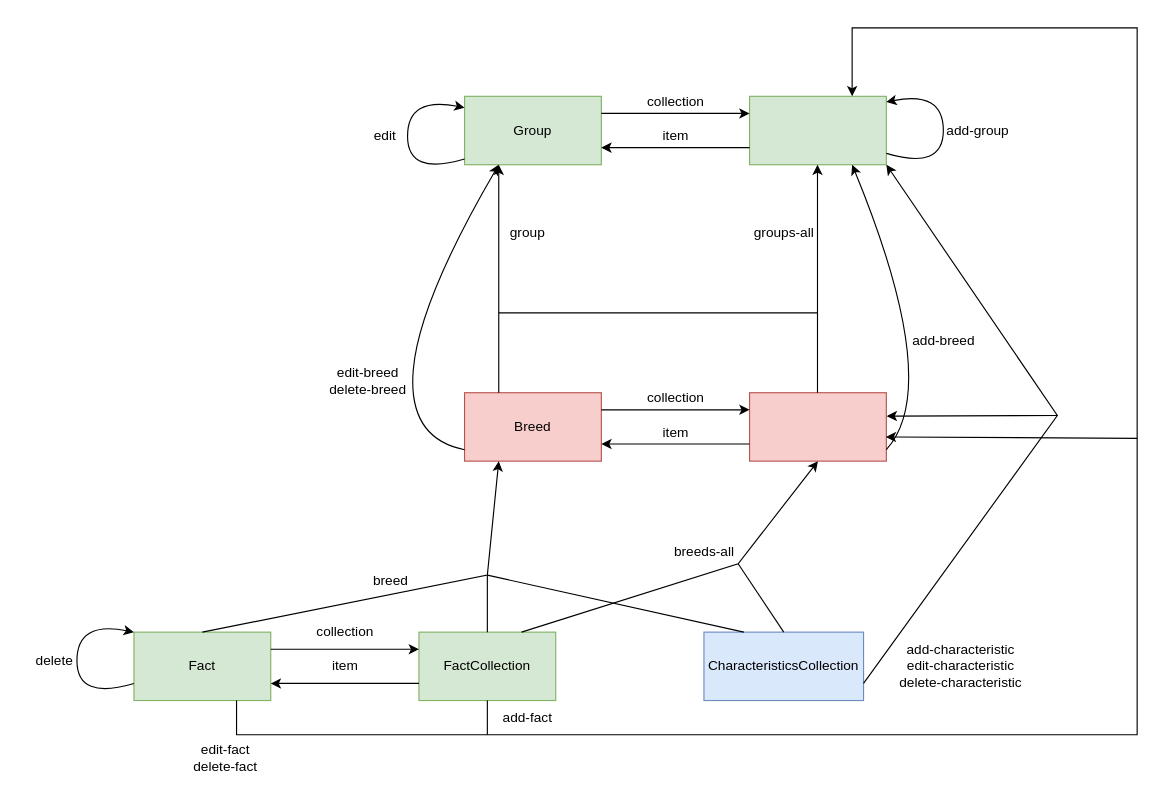
This 1166x800 diagram has some shape labels left out. Here are the shapes that lost their labels. From the top down, the centre of each, then its label:
the point at 817,130: GroupCollection
the point at 817,426: BreedCollection
